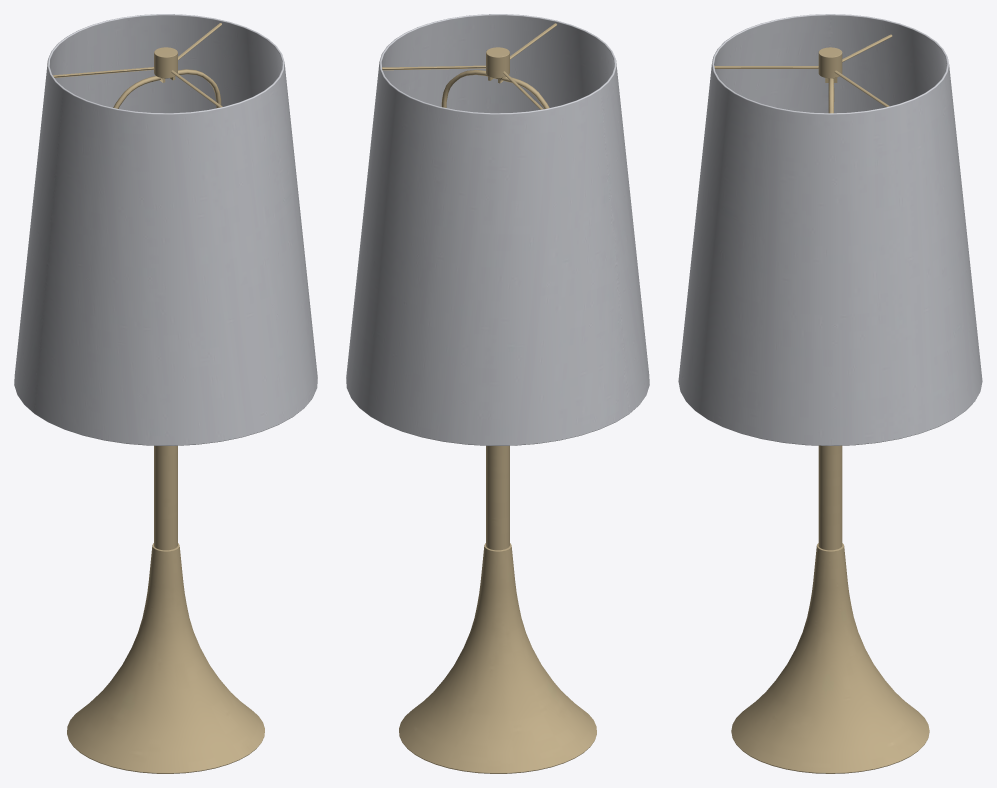
The picture shows the model from 3 angles, left to right: view 1: azimuth 30°, elevation 25°; view 2: azimuth 150°, elevation 25°; view 3: azimuth 270°, elevation 25°; orthographic projection.
Parts seen in each view (by area): view 1: RootNode; view 2: RootNode; view 3: RootNode.
Boxes of the visible parts, left/top/right/bottom form: RootNode: left=14, top=14, right=317, bottom=773; RootNode: left=346, top=14, right=649, bottom=773; RootNode: left=678, top=14, right=982, bottom=773.
Size of the model in its own units: 0.2307 by 0.5693 by 0.2307.
Materials: 1 (1 with a texture image).
